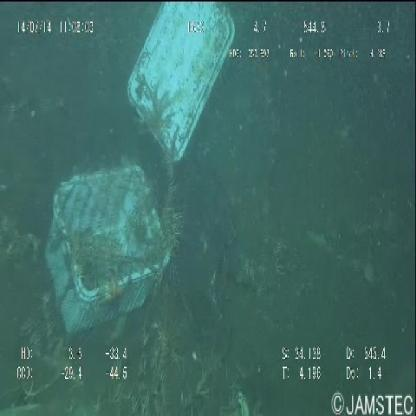Rác: (40, 2, 243, 351)
